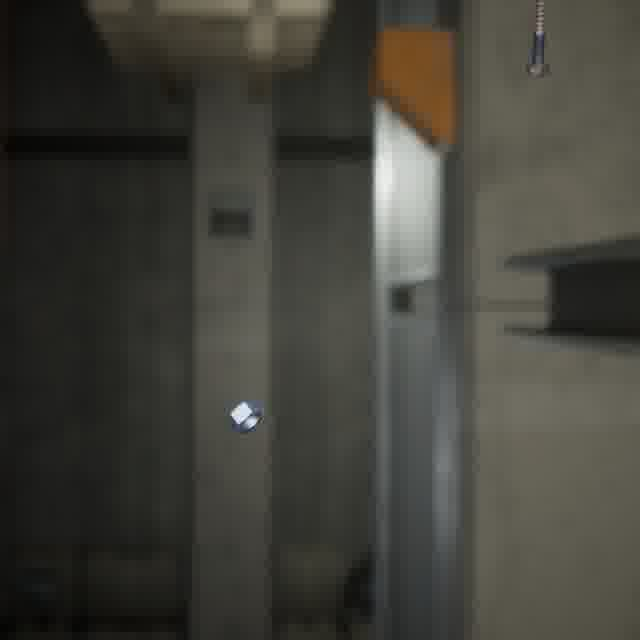bolt: (521, 0, 554, 81)
nut: (224, 395, 268, 438)
